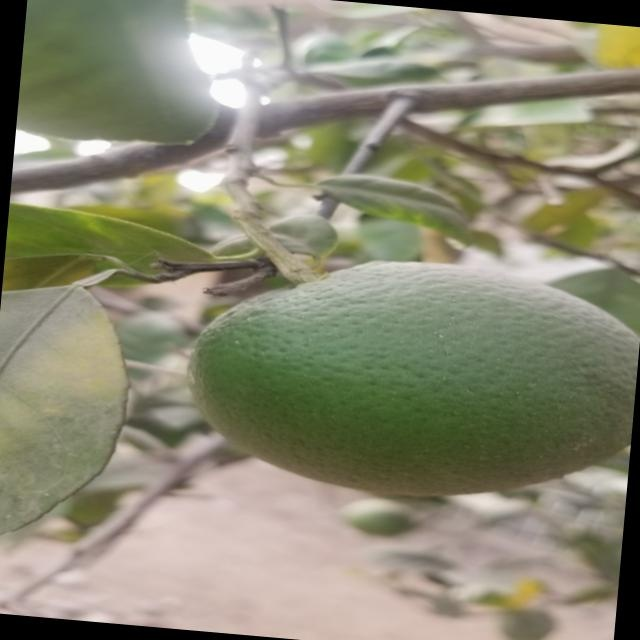agrume: (201, 245, 640, 509)
